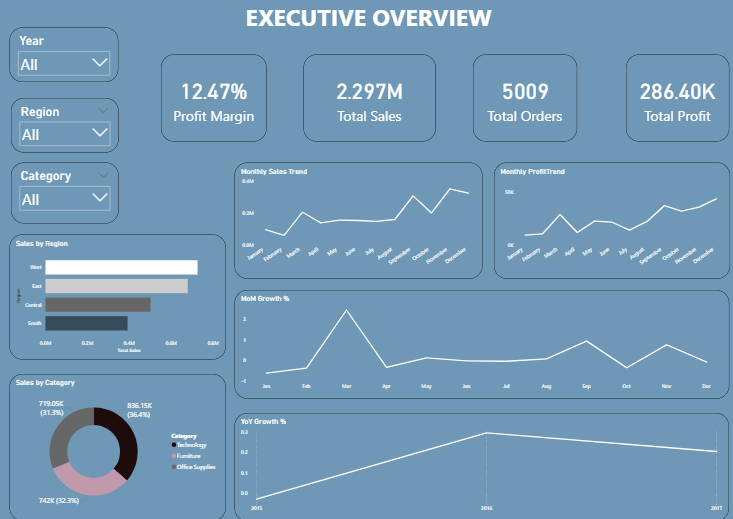

This screenshot's page, from the dashboard's own definition file:
{"tool":"powerbi","page":{"name":"EXECUTIVE OVERVIEW","canvas":[1700,1200],"ordinal":0},"visuals":[{"type":"card","fields":{"Values":["DateTable.Total Profit"]},"box":[1442.5,127.5,237.5,200],"z":0},{"type":"lineChart","title":"Monthly Sales Trend","fields":{"Y":["Superstore.Total Sales"],"Category":["DateTable.Date.Variation.Date Hierarchy.Month","DateTable.Date.Variation.Date Hierarchy.Day"]},"box":[542.5,375,570,267.5],"z":1000},{"type":"lineChart","title":"Monthly ProfitTrend","fields":{"Category":["DateTable.Date.Variation.Date Hierarchy.Month","DateTable.Date.Variation.Date Hierarchy.Day"],"Y":["DateTable.Total Profit"]},"box":[1137.5,375,542.5,267.5],"z":2000},{"type":"lineChart","title":"MoM Growth %","fields":{"Y":["DateTable.MoM Growth %"],"Category":["DateTable.Month_Name"]},"box":[542.5,670,1137.5,250],"z":3000},{"type":"slicer","fields":{"Values":["DateTable.Year"]},"box":[25,65,250,125],"z":4000},{"type":"card","fields":{"Values":["DateTable.Total Orders"]},"box":[1090.9,127.3,239.4,200],"z":5000},{"type":"card","fields":{"Values":["Superstore.Total Sales"]},"box":[700,125.9,303.7,200],"z":6000},{"type":"card","fields":{"Values":["DateTable.Profit Margin"]},"box":[372.7,127.3,242.4,200],"z":7000},{"type":"lineChart","title":"YoY Growth %","fields":{"Y":["DateTable.YoY Growth %"],"Category":["DateTable.Year"]},"box":[542.4,951.5,1136.4,248.5],"z":8000},{"type":"donutChart","title":"Sales by Category","fields":{"Category":["Superstore.Category"],"Y":["Superstore.Total Sales"]},"box":[22.5,862.5,497.5,337.5],"z":9000},{"type":"barChart","title":"Sales by Region","fields":{"Category":["Superstore.Region"],"Y":["Superstore.Total Sales"]},"box":[22.5,542.5,497.5,287.5],"z":10000},{"type":"slicer","fields":{"Values":["Superstore.Region"]},"box":[27.5,227.5,247.5,125],"z":11000},{"type":"slicer","fields":{"Values":["Superstore.Category"]},"box":[27.5,375,247.5,140],"z":12000},{"type":"textbox","box":[0,0,1700,83.3],"z":13000}]}

Visuals, with their boxes in screenshot pixels (x1, y1, x2, y2), scaled from the page's 1700x1200 canvas onto the 733x519 screenshot:
card - DateTable.Total Profit: 622,55,724,142
"Monthly Sales Trend" lineChart: 234,162,480,278
"Monthly ProfitTrend" lineChart: 490,162,724,278
"MoM Growth %" lineChart: 234,290,724,398
slicer - DateTable.Year: 11,28,119,82
card - DateTable.Total Orders: 470,55,574,142
card - Superstore.Total Sales: 302,54,433,141
card - DateTable.Profit Margin: 161,55,265,142
"YoY Growth %" lineChart: 234,412,724,518
"Sales by Category" donutChart: 10,373,224,518
"Sales by Region" barChart: 10,235,224,359
slicer - Superstore.Region: 12,98,119,152
slicer - Superstore.Category: 12,162,119,223
textbox: 0,0,732,36
